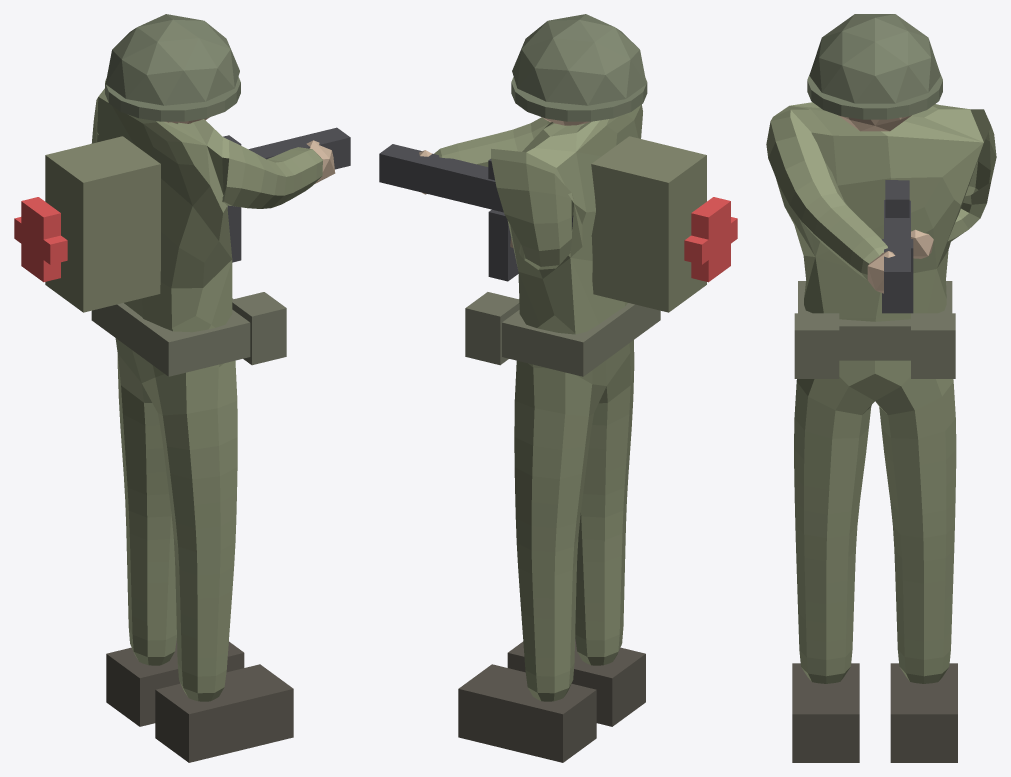
The model's file is medic.glb.
3 renders of one model, left to right at view 1: azimuth 30°, elevation 25°; view 2: azimuth 150°, elevation 25°; view 3: azimuth 270°, elevation 25°, orthographic.
Parts seen in each view (by area): view 1: medic; view 2: medic; view 3: medic.
Boxes of the visible parts, x1=… form: medic: x1=14, y1=14, x2=350, y2=762; medic: x1=379, y1=14, x2=737, y2=762; medic: x1=766, y1=14, x2=996, y2=762.
Bounding box in the file's own units: 0.8325 × 1.74 × 0.5148.
